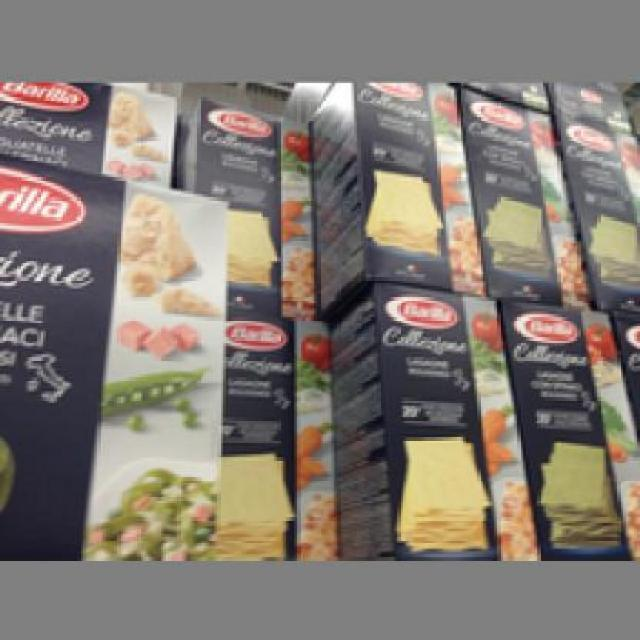Pasta: (0, 148, 229, 554), (326, 280, 537, 554), (306, 77, 488, 306), (448, 77, 586, 300), (186, 90, 306, 284)
